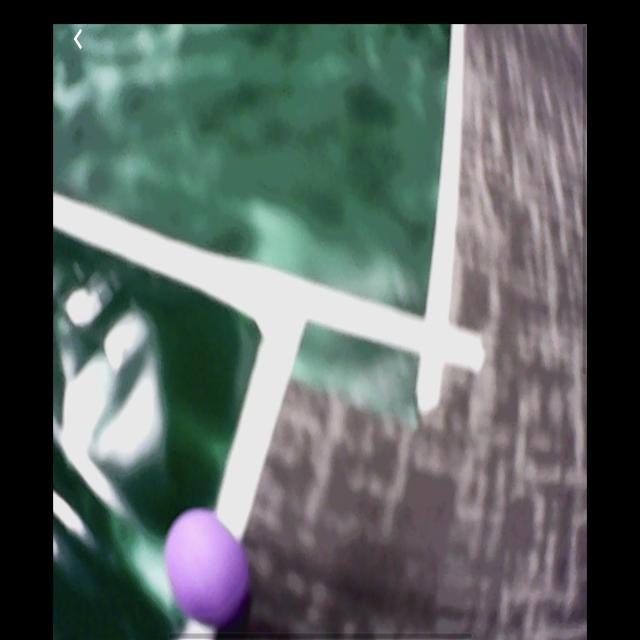ball: (164, 507, 252, 630)
